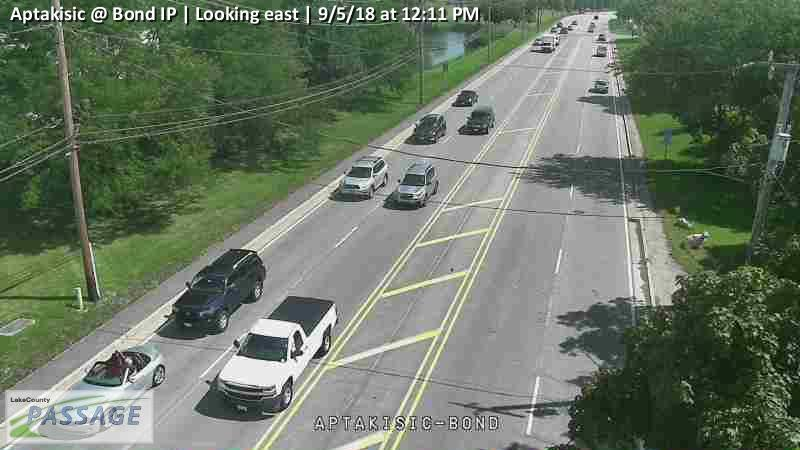SUV: (172, 247, 266, 335), (392, 160, 439, 209), (339, 156, 390, 200), (594, 78, 609, 93)
Sedan: (46, 342, 167, 437), (413, 112, 446, 145), (466, 104, 496, 135), (452, 89, 478, 107)
Truck: (217, 295, 338, 415)
